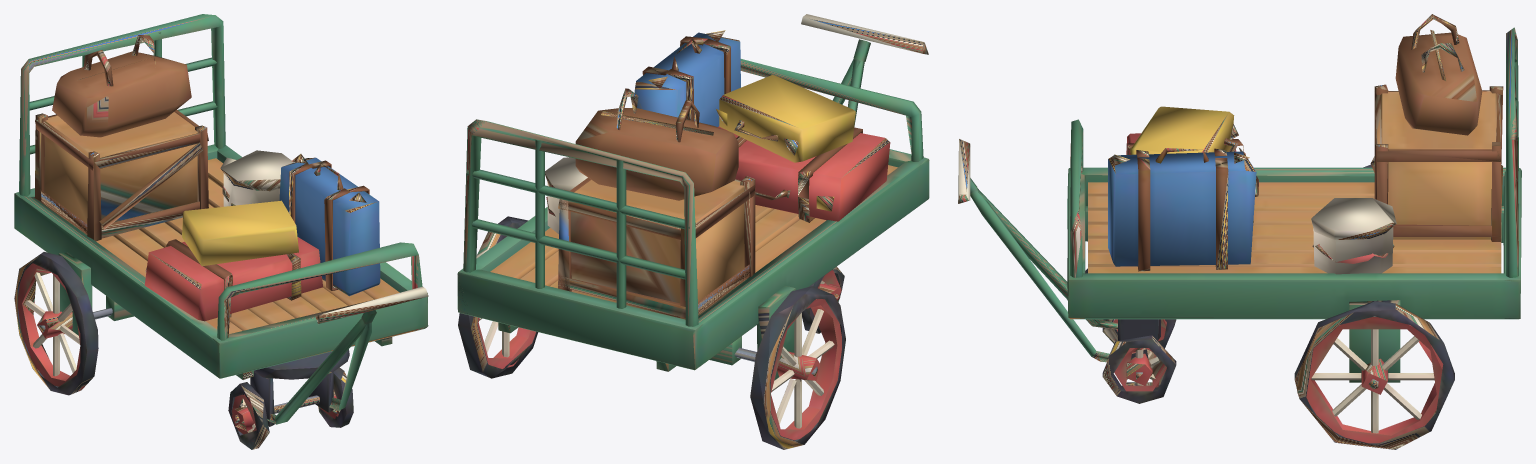
The model's file is luggage-cart.glb.
3 views of the same model, side by side, from view 1: azimuth 30°, elevation 25°; view 2: azimuth 150°, elevation 25°; view 3: azimuth 270°, elevation 25° (orthographic). The views are drawn at different scales.
Parts seen in each view (by area): view 1: luggage-cart_body; view 2: luggage-cart_body; view 3: luggage-cart_body.
Part boxes in pixels (x1=…): luggage-cart_body: x1=14, y1=14, x2=428, y2=449; luggage-cart_body: x1=457, y1=14, x2=929, y2=449; luggage-cart_body: x1=958, y1=14, x2=1521, y2=449.
Bounding box in the file's own units: 1.38 × 1.38 × 2.11.
1 material, 1 textured.
